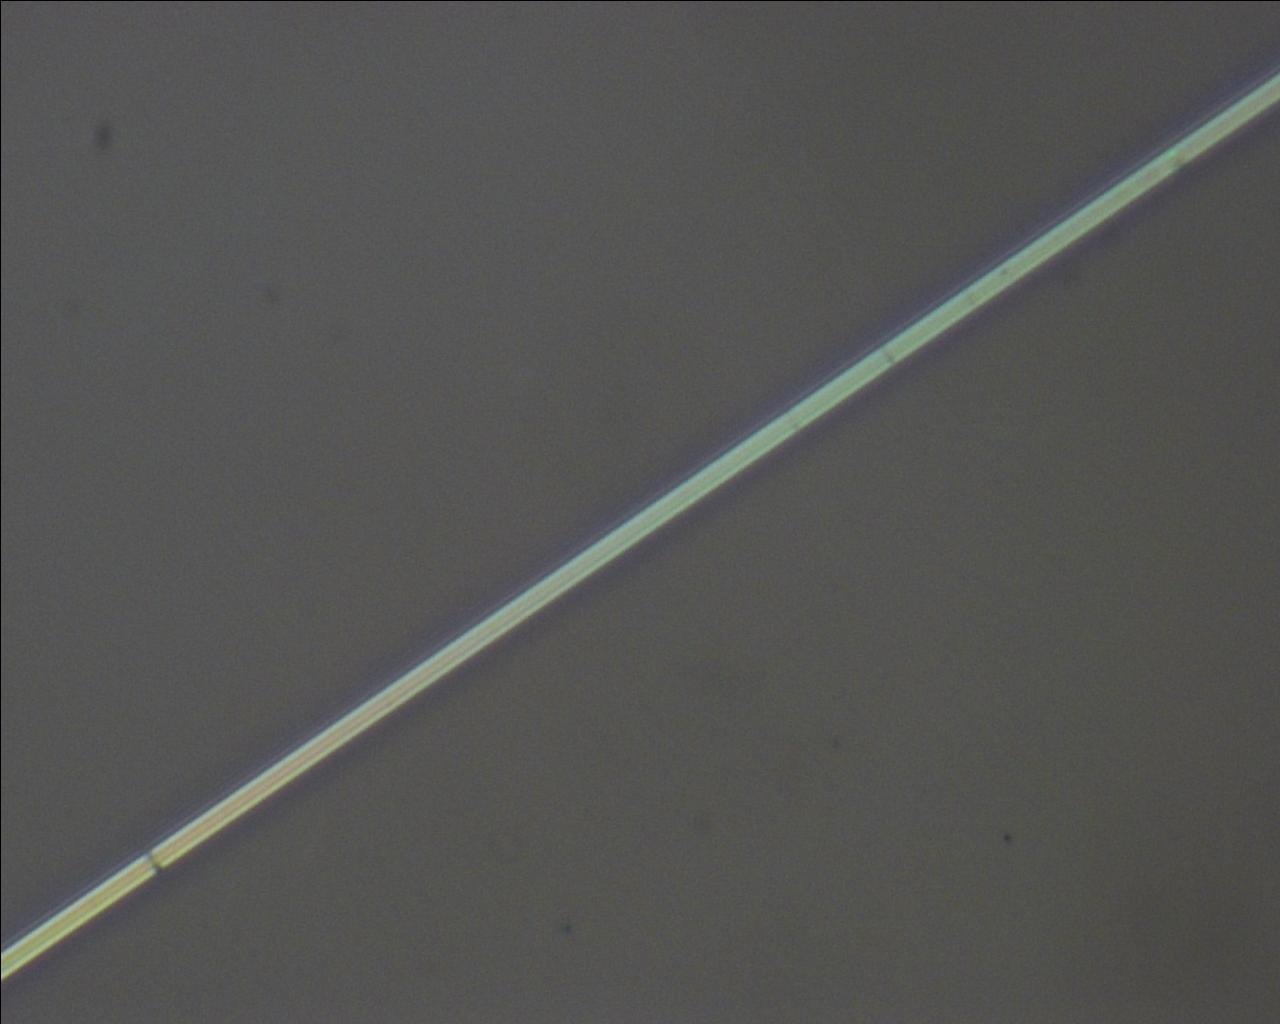fiber: (0, 71, 1280, 984)
